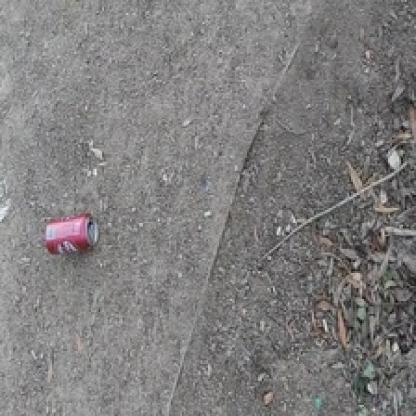Can: (44, 214, 99, 255)
